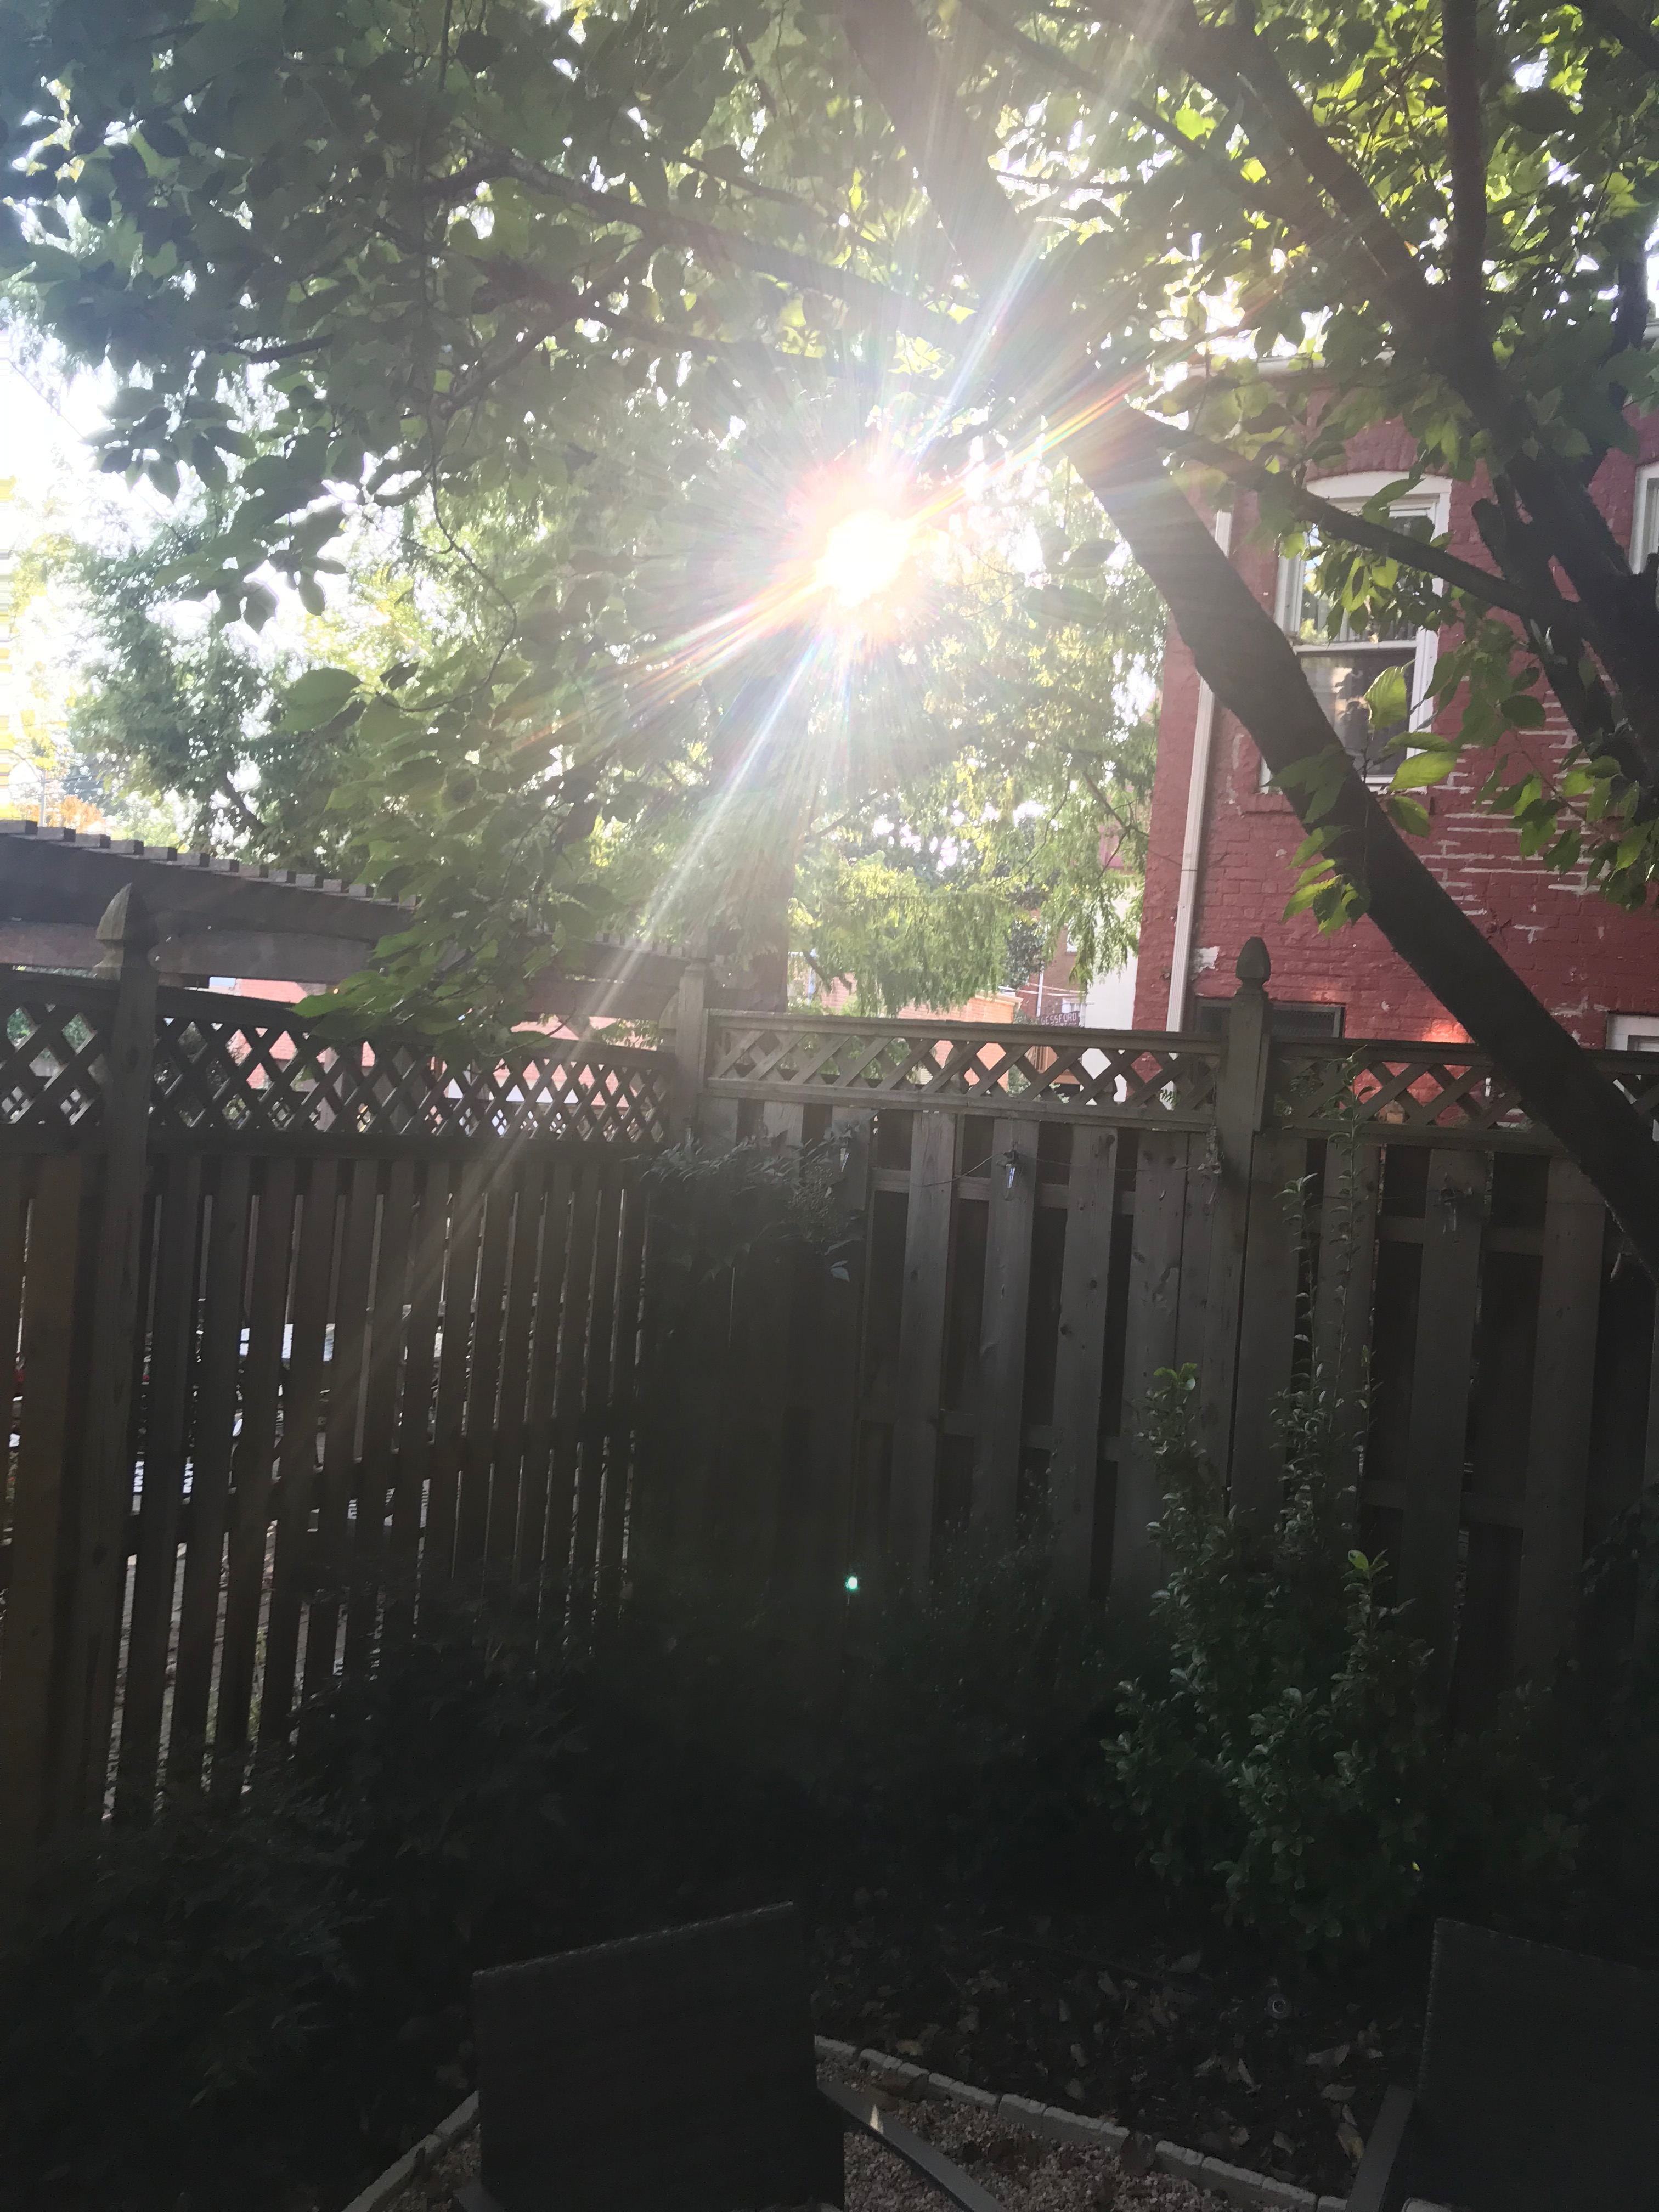flare: (843, 1573, 861, 1594)
